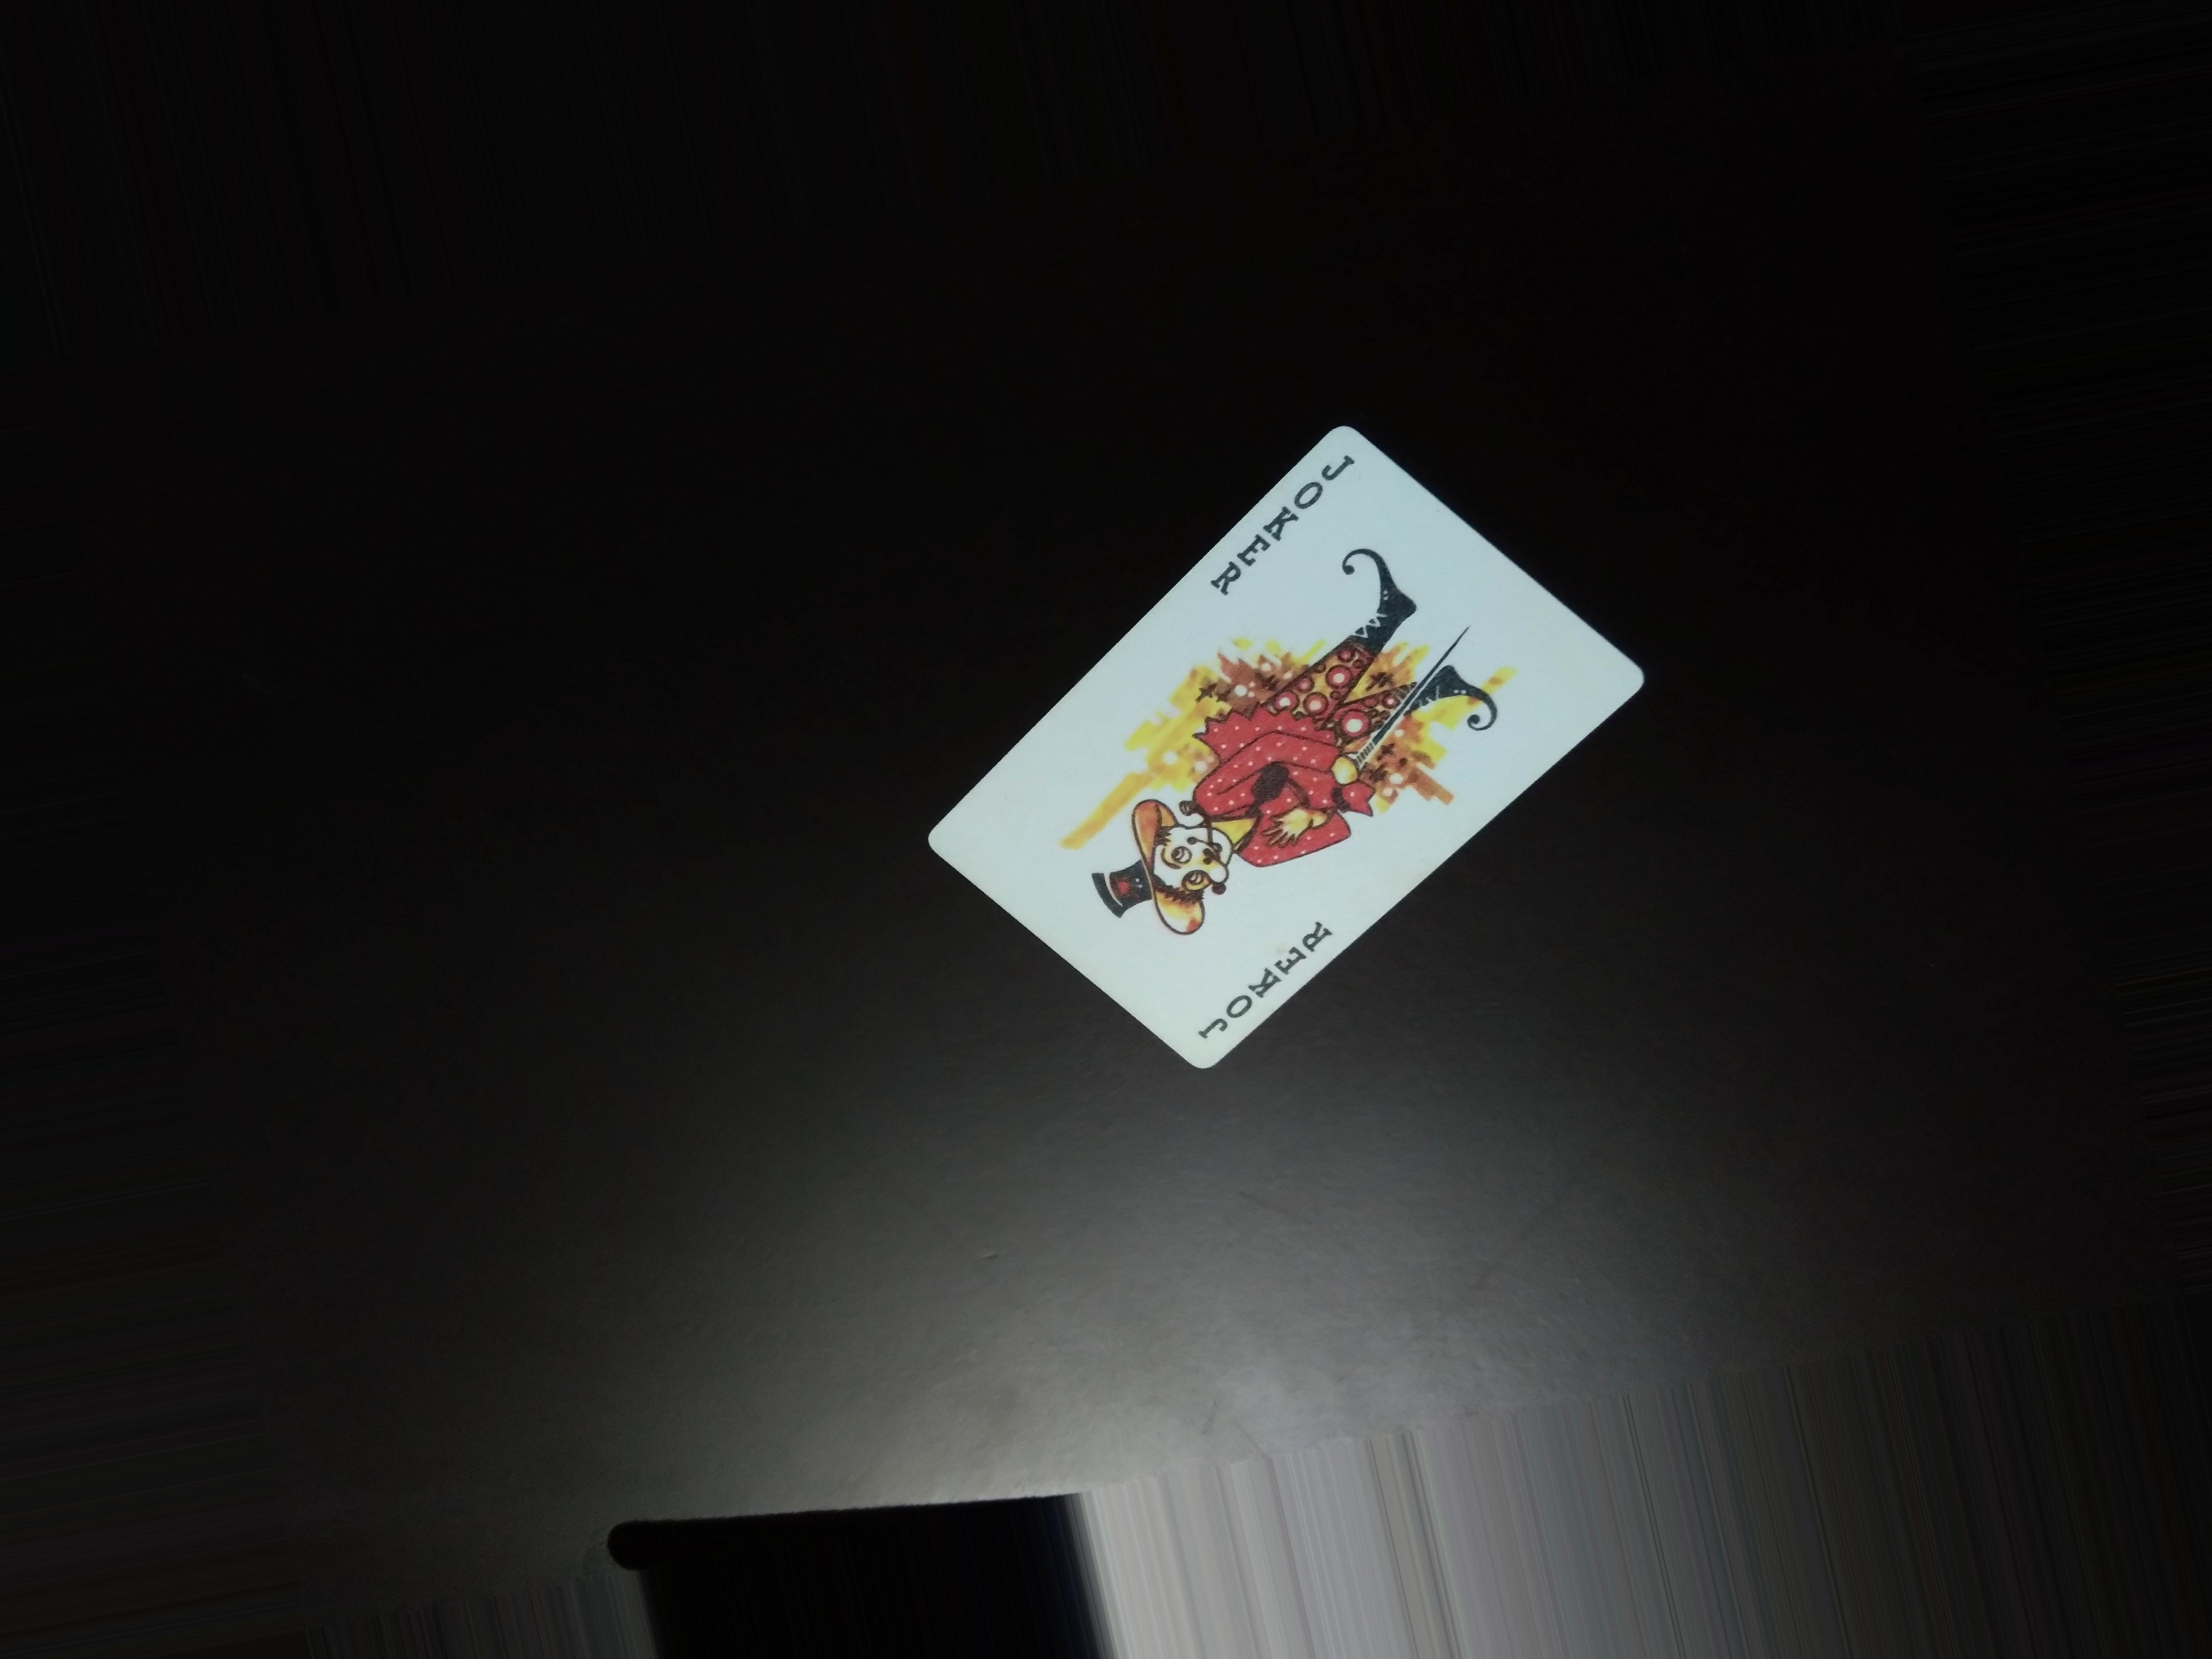JOKER: (1212, 420, 1359, 599)
